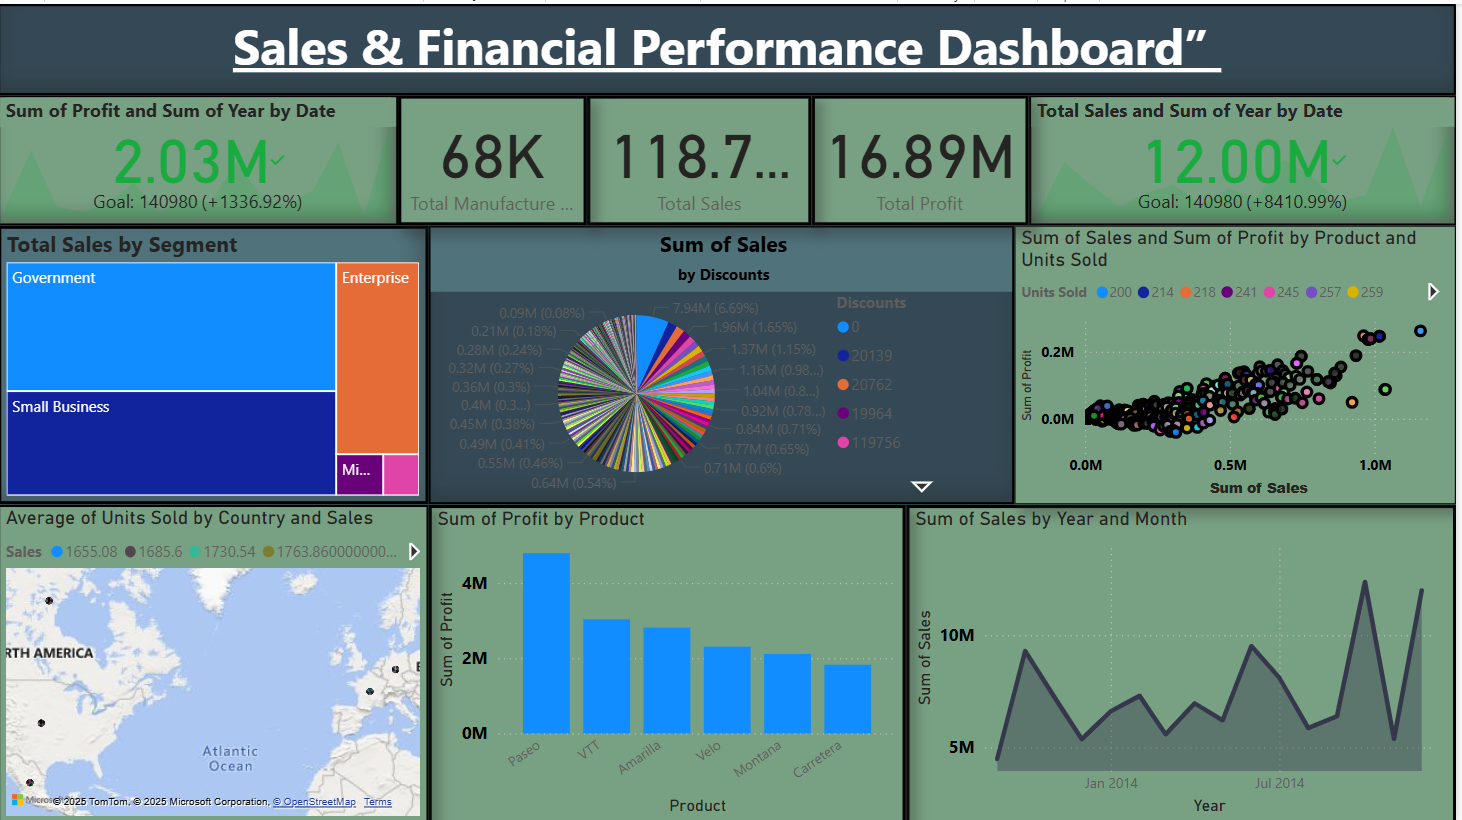

The page's visual inventory and layout, read from the dashboard file:
{"tool":"powerbi","page":{"name":"Page 1","canvas":[1280,720],"ordinal":0},"visuals":[{"type":"lineChart","fields":{"Y":["Sum(financials.Sales)"],"Category":["financials.Date.Variation.Date Hierarchy.Year","financials.Date.Variation.Date Hierarchy.Month"]},"box":[797.4,439.7,483,280.2],"z":0},{"type":"clusteredColumnChart","fields":{"Category":["financials.Product"],"Y":["Sum(financials.Profit)"]},"box":[378,439.7,419.4,280.2],"z":1000},{"type":"map","fields":{"Category":["financials.Country"],"Series":["financials.Sales"],"Y":["Avg(financials.Units Sold)"]},"box":[0,439.7,378,280.2],"z":2000},{"type":"scatterChart","fields":{"X":["Sum(financials.Sales)"],"Y":["Sum(financials.Profit)"],"Category":["financials.Product"],"Series":["financials.Units Sold"]},"box":[892.3,194.5,388.1,245.2],"z":3000},{"type":"pieChart","fields":{"Category":["financials.Discounts"],"Y":["Sum(financials.Sales)"]},"box":[378,194.5,514.4,245.2],"z":3001},{"type":"treemap","fields":{"Group":["financials.Segment"],"Values":["Measure.Total Sales"]},"box":[0,194.5,378,245.2],"z":3002},{"type":"kpi","fields":{"TrendLine":["financials.Date"],"Goal":["Sum(financials.Year)"],"Indicator":["Sum(financials.Profit)"]},"box":[0,80.2,351.2,114.3],"z":3003},{"type":"kpi","fields":{"Indicator":["Measure.Total Sales"],"TrendLine":["financials.Date"],"Goal":["Sum(financials.Year)"]},"box":[905.2,80.2,375.2,114.3],"z":3004},{"type":"card","fields":{"Values":["Measure.Total Profit"]},"box":[714.4,80.2,190.8,114.3],"z":3005},{"type":"card","fields":{"Values":["Measure.Total Sales"]},"box":[517.2,80.2,197.3,114.3],"z":3006},{"type":"card","fields":{"Values":["Measure.Total Manufacture Price"]},"box":[351.2,80.2,165.9,114.3],"z":3007},{"type":"textbox","box":[0,0,1280.4,80.2],"z":3008}]}

Visuals, with their boxes in screenshot pixels (x1, y1, x2, y2), scaled from the page's 1280x720 canvas onto the 1462x820 screenshot:
lineChart - Sum(financials.Sales) x financials.Date.Variation.Date Hierarchy.Year: crop(911, 501, 1461, 819)
clusteredColumnChart - financials.Product x Sum(financials.Profit): crop(432, 501, 911, 819)
map - financials.Country x financials.Sales: crop(0, 501, 432, 819)
scatterChart - Sum(financials.Sales) x Sum(financials.Profit): crop(1019, 222, 1461, 501)
pieChart - financials.Discounts x Sum(financials.Sales): crop(432, 222, 1019, 501)
treemap - financials.Segment x Measure.Total Sales: crop(0, 222, 432, 501)
kpi - financials.Date x Sum(financials.Year): crop(0, 91, 401, 222)
kpi - Measure.Total Sales x financials.Date: crop(1034, 91, 1461, 222)
card - Measure.Total Profit: crop(816, 91, 1034, 222)
card - Measure.Total Sales: crop(591, 91, 816, 222)
card - Measure.Total Manufacture Price: crop(401, 91, 591, 222)
textbox: crop(0, 0, 1461, 91)
